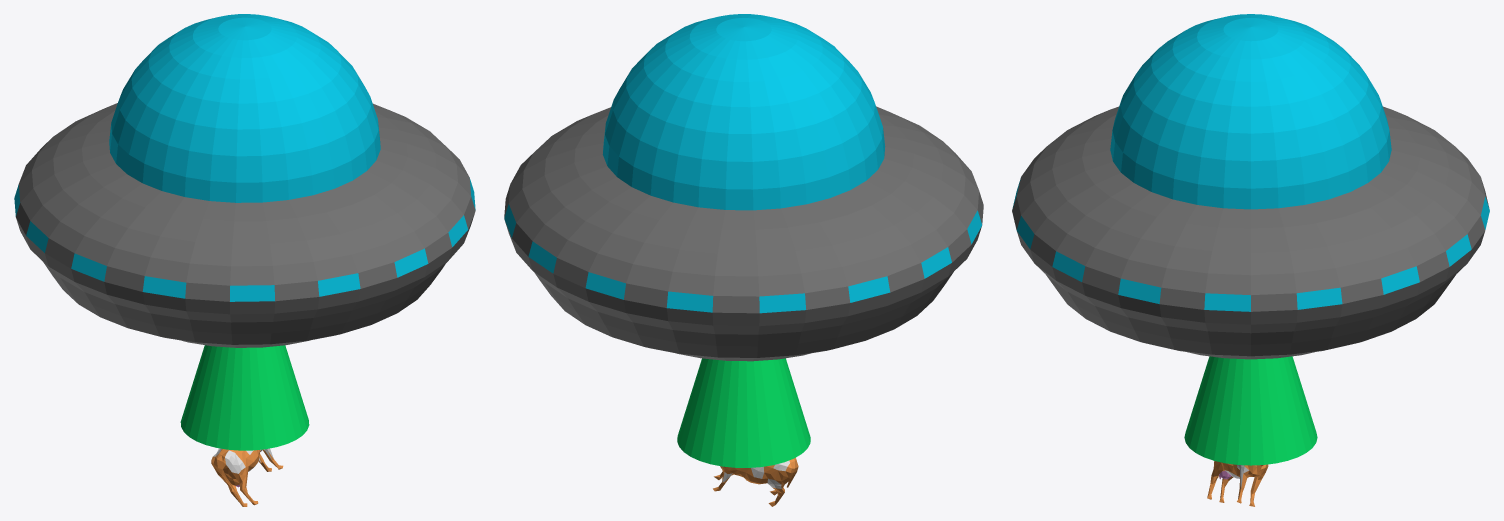
Rendered from UFO.fbx.
3 renders of one model, left to right at view 1: azimuth 30°, elevation 25°; view 2: azimuth 150°, elevation 25°; view 3: azimuth 270°, elevation 25°, orthographic. The views are drawn at different scales.
Parts seen in each view (by area): view 1: UFO; view 2: UFO; view 3: UFO.
Part boxes in pixels (<box>): UFO: <box>14,14,475,506</box>; UFO: <box>504,14,983,506</box>; UFO: <box>1012,14,1489,506</box>.
Size of the model in its own units: 289 by 322 by 289.
